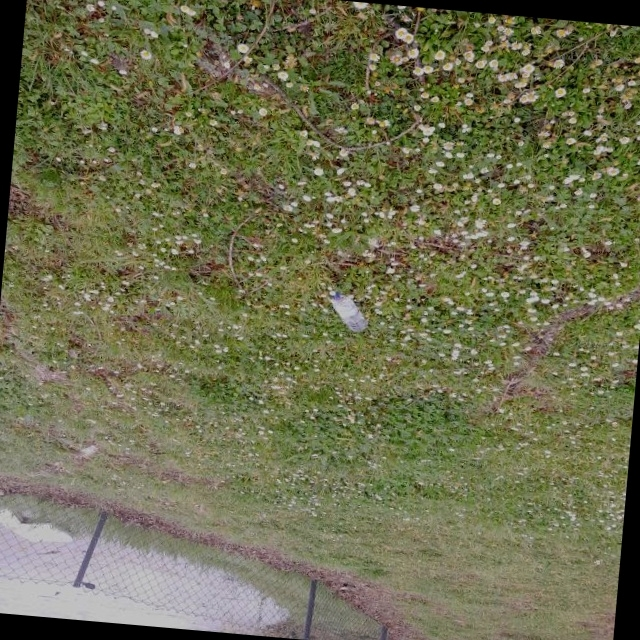Plastic-bottle: (314, 288, 378, 334)
